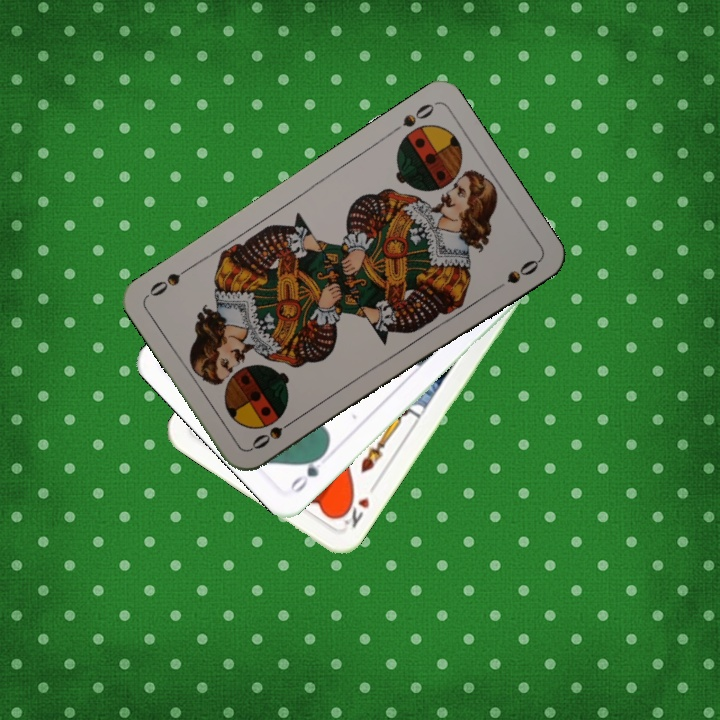GO: (285, 447, 329, 496)
HK: (336, 479, 380, 531)
SO: (247, 414, 299, 453), (386, 99, 437, 138)
